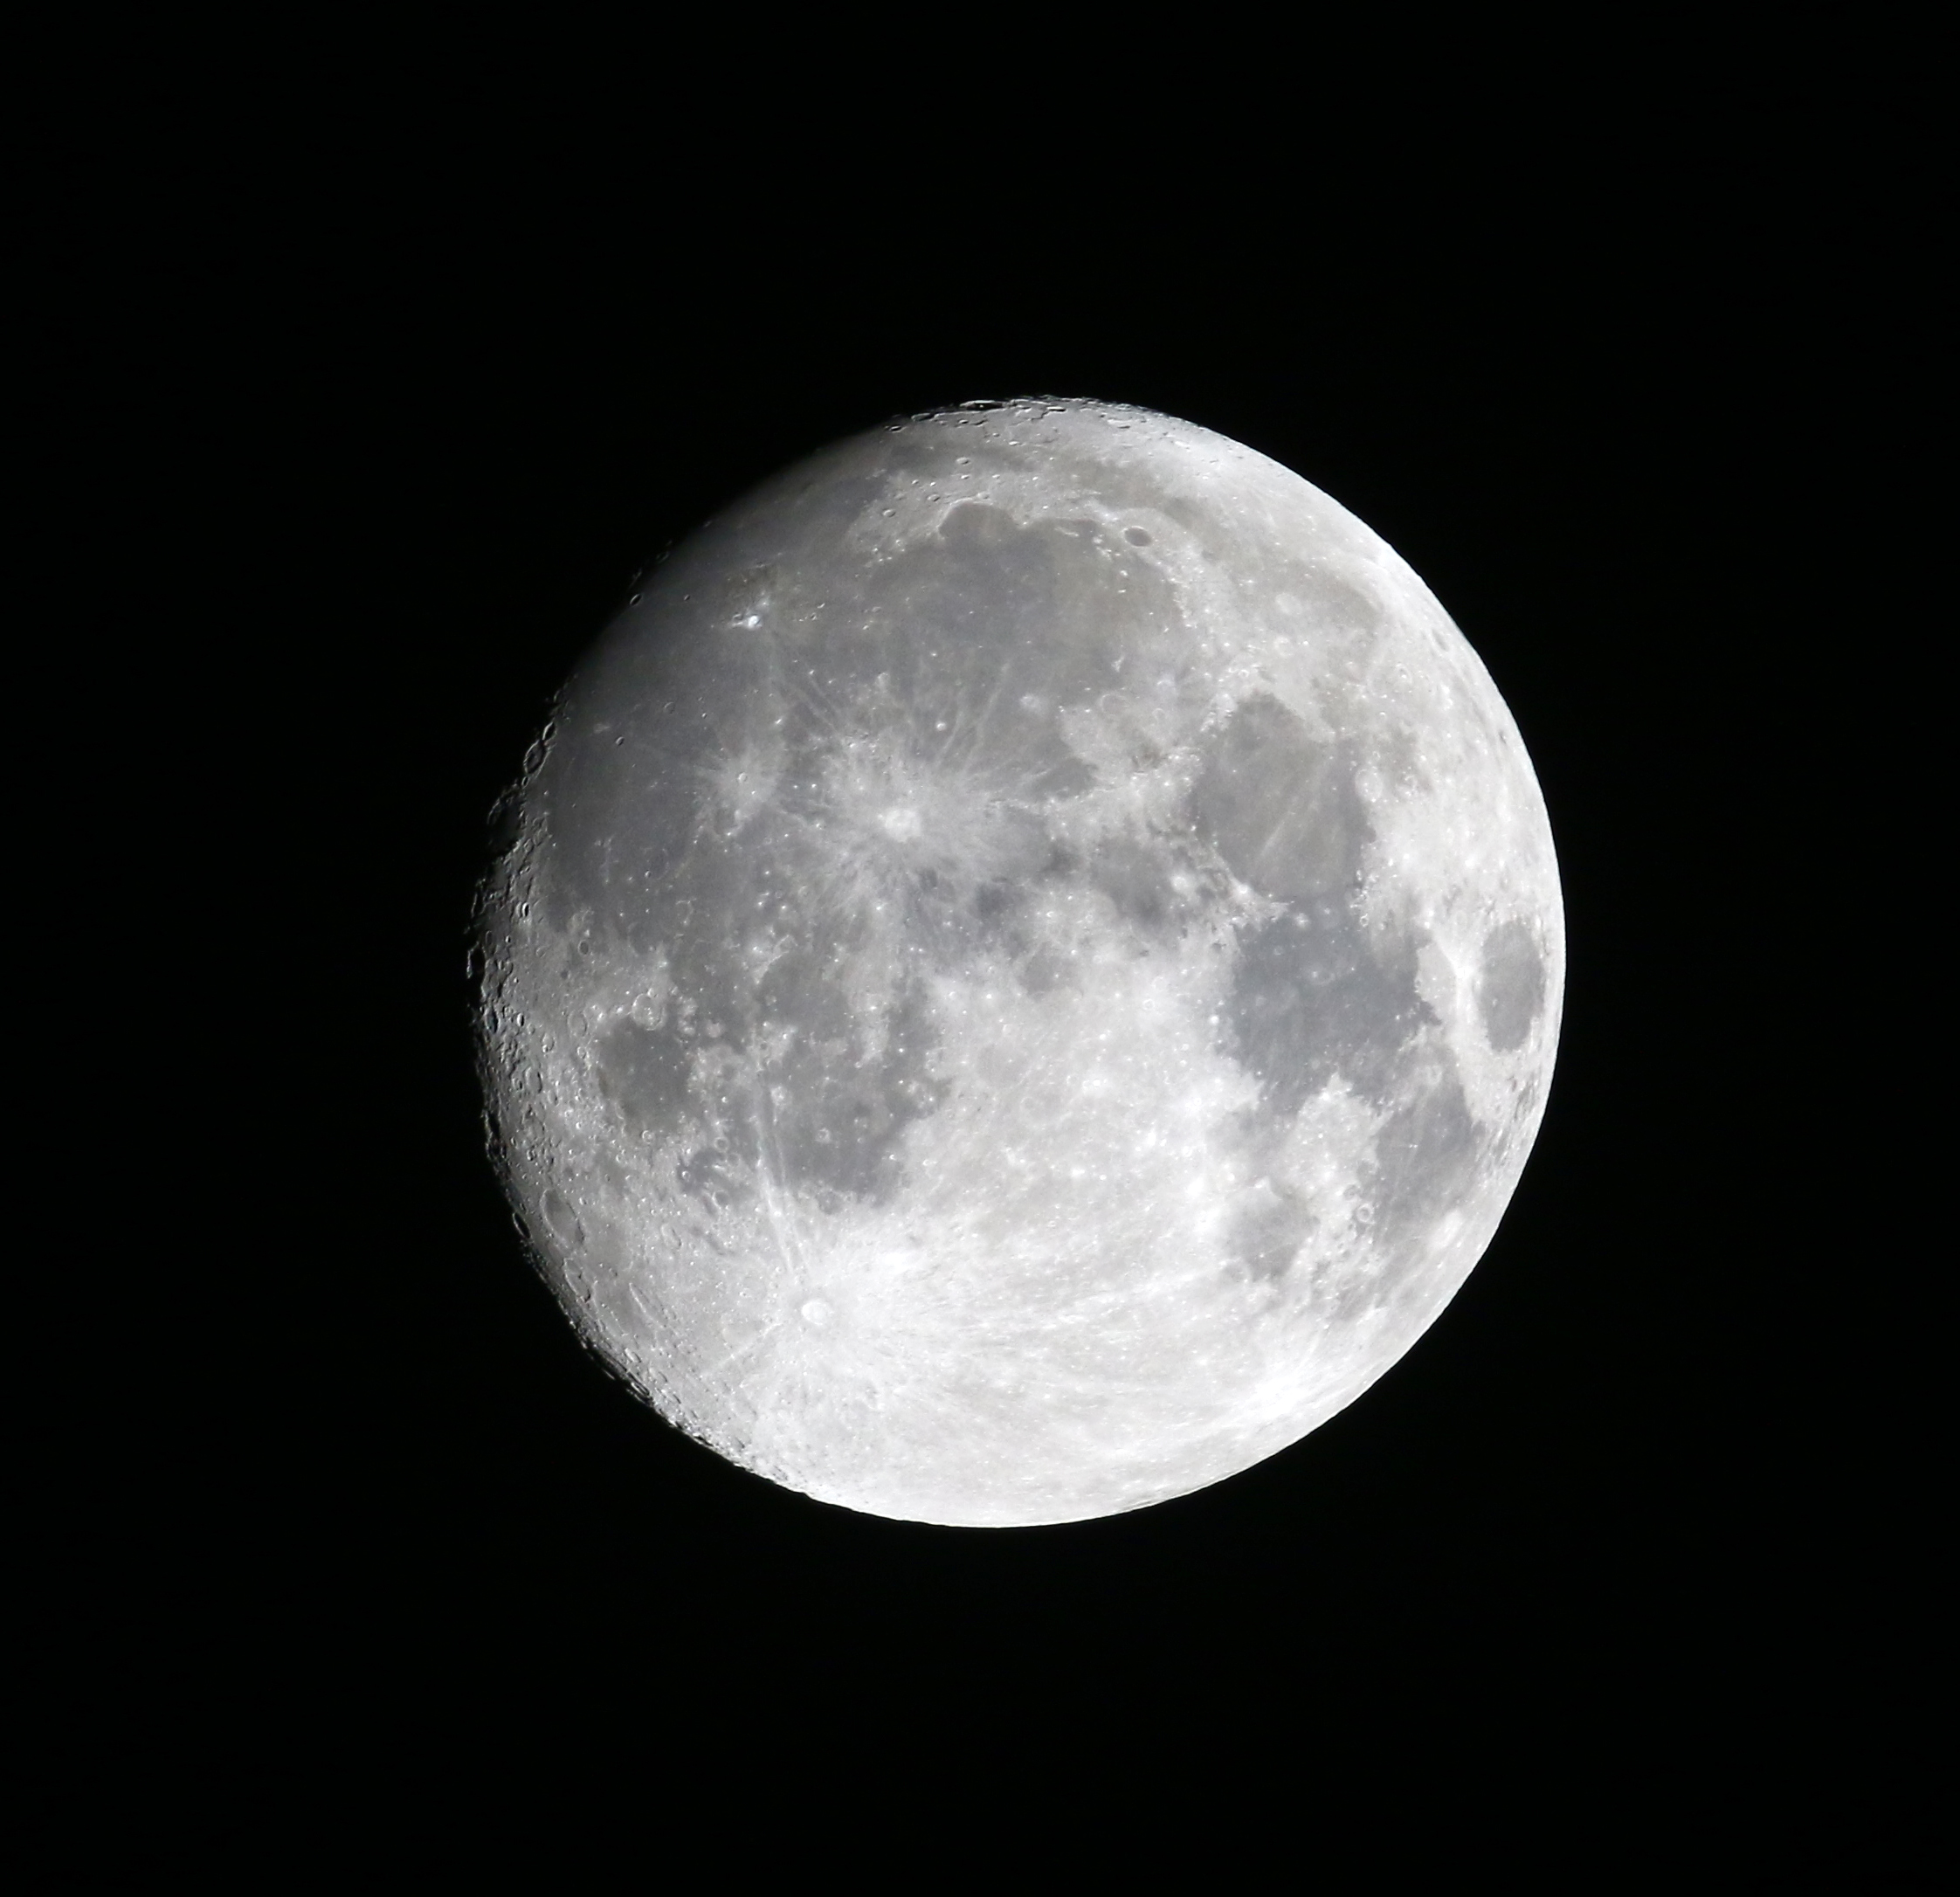crater: (768, 1269, 863, 1351), (527, 1178, 605, 1260), (619, 982, 688, 1046), (871, 796, 934, 861), (719, 760, 777, 809), (1083, 674, 1134, 728), (1108, 513, 1164, 562), (733, 600, 786, 646), (1158, 859, 1195, 896), (870, 497, 906, 528), (1146, 968, 1174, 998), (947, 448, 977, 472)
